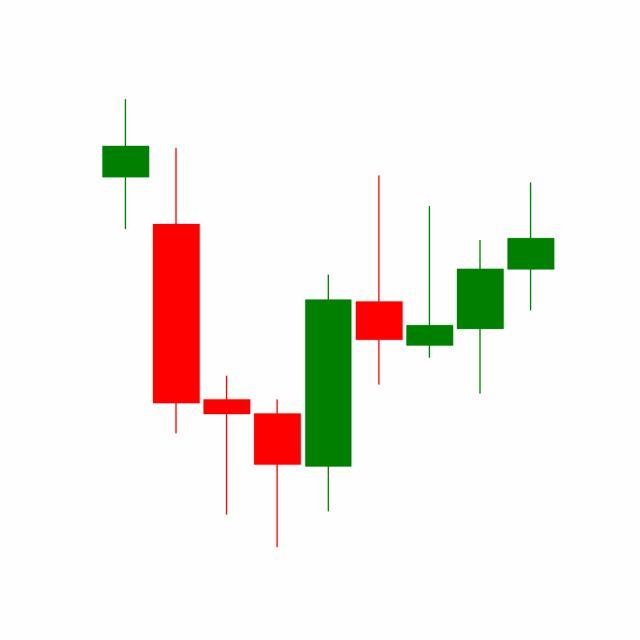Hikkake Pattern: (252, 171, 506, 549)
